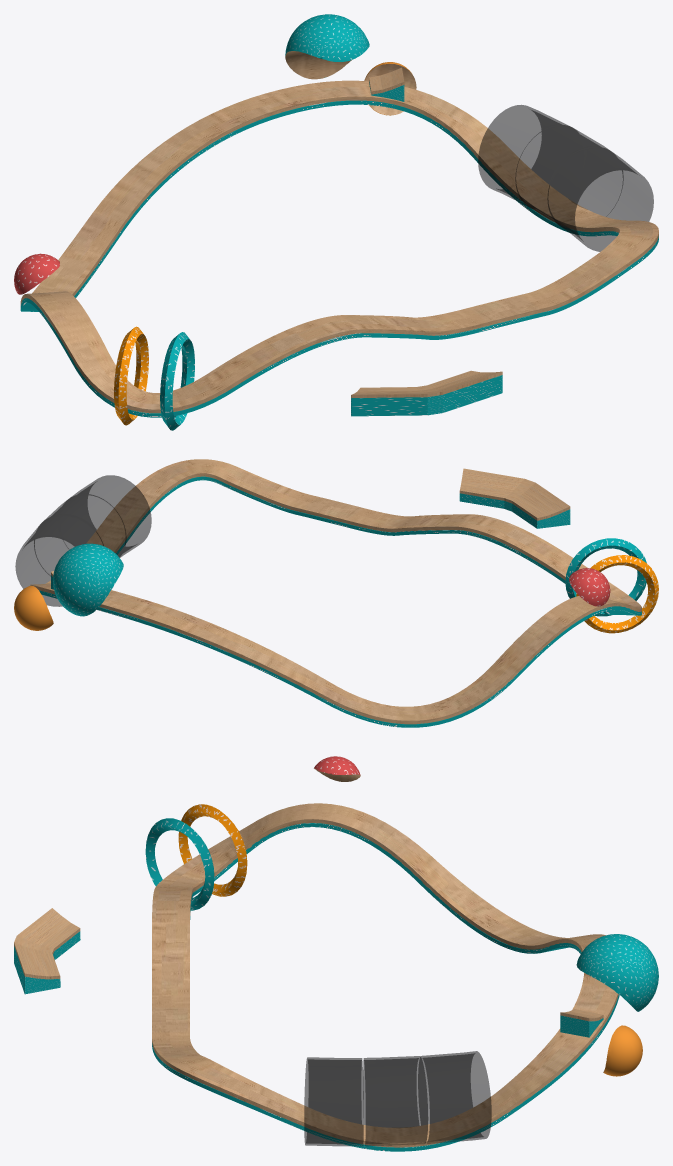
Rendered from Skate Ramp.fbx.
3 views of the same model, one above another, from view 1: azimuth 30°, elevation 25°; view 2: azimuth 150°, elevation 25°; view 3: azimuth 270°, elevation 25° (orthographic). The views are drawn at different scales.
Visible parts, largest first — view 1: Skate_Ramp_Up, Sweep_3, Sweep_4, Skate_Ramp_Lo, Sweep_5, Sphere_4, Cube_2, Torus_5, Torus_1, Skate_Ramp_Tube, Cube_1, Sphere_2_5 (+1 smaller); view 2: Skate_Ramp_Up, Skate_Ramp_Lo, Sweep_5, Sphere_4, Sweep_4, Cube_1, Sweep_3, Torus_5, Torus_1, Sphere_1_2, Sphere_2_5, Cube_2; view 3: Skate_Ramp_Up, Sweep_3, Sweep_4, Sweep_5, Skate_Ramp_Lo, Sphere_4, Cube_1, Torus_1, Torus_5, Sphere_1_2, Cube_2, Sphere_2_5 (+1 smaller).
Part boxes in pixels (left/top/right/bottom): Skate_Ramp_Up: left=20, top=80, right=658, bottom=413; Sweep_3: left=478, top=105, right=584, bottom=208; Sweep_4: left=515, top=125, right=623, bottom=228; Skate_Ramp_Lo: left=20, top=100, right=658, bottom=417; Sweep_5: left=547, top=146, right=653, bottom=251; Sphere_4: left=285, top=14, right=369, bottom=61; Cube_2: left=351, top=375, right=502, bottom=416; Torus_5: left=114, top=326, right=148, bottom=425; Torus_1: left=160, top=332, right=194, bottom=430; Skate_Ramp_Tube: left=285, top=51, right=416, bottom=115; Cube_1: left=351, top=370, right=502, bottom=397; Sphere_2_5: left=14, top=253, right=59, bottom=294; Skate_Ramp_Up: left=30, top=459, right=641, bottom=724; Skate_Ramp_Lo: left=39, top=476, right=641, bottom=727; Sweep_5: left=59, top=475, right=151, bottom=557; Sphere_4: left=53, top=543, right=123, bottom=616; Sweep_4: left=34, top=494, right=126, bottom=575; Cube_1: left=459, top=468, right=570, bottom=520; Sweep_3: left=15, top=514, right=103, bottom=606; Torus_5: left=576, top=555, right=658, bottom=633; Torus_1: left=565, top=538, right=646, bottom=616; Sphere_1_2: left=14, top=586, right=53, bottom=630; Sphere_2_5: left=569, top=568, right=610, bottom=606; Cube_2: left=459, top=493, right=570, bottom=528; Skate_Ramp_Up: left=152, top=803, right=618, bottom=1147; Sweep_3: left=418, top=1051, right=491, bottom=1143; Sweep_4: left=363, top=1056, right=428, bottom=1145; Sweep_5: left=304, top=1057, right=363, bottom=1146; Skate_Ramp_Lo: left=152, top=823, right=619, bottom=1151; Sphere_4: left=576, top=934, right=658, bottom=1011; Cube_1: left=14, top=908, right=80, bottom=979; Torus_1: left=145, top=818, right=214, bottom=910; Torus_5: left=178, top=804, right=247, bottom=896; Sphere_1_2: left=603, top=1025, right=642, bottom=1076; Cube_2: left=14, top=931, right=80, bottom=994; Sphere_2_5: left=314, top=756, right=360, bottom=774.
Size of the model in its own units: 1659 by 409 by 1528.
8 materials, 4 textured.
